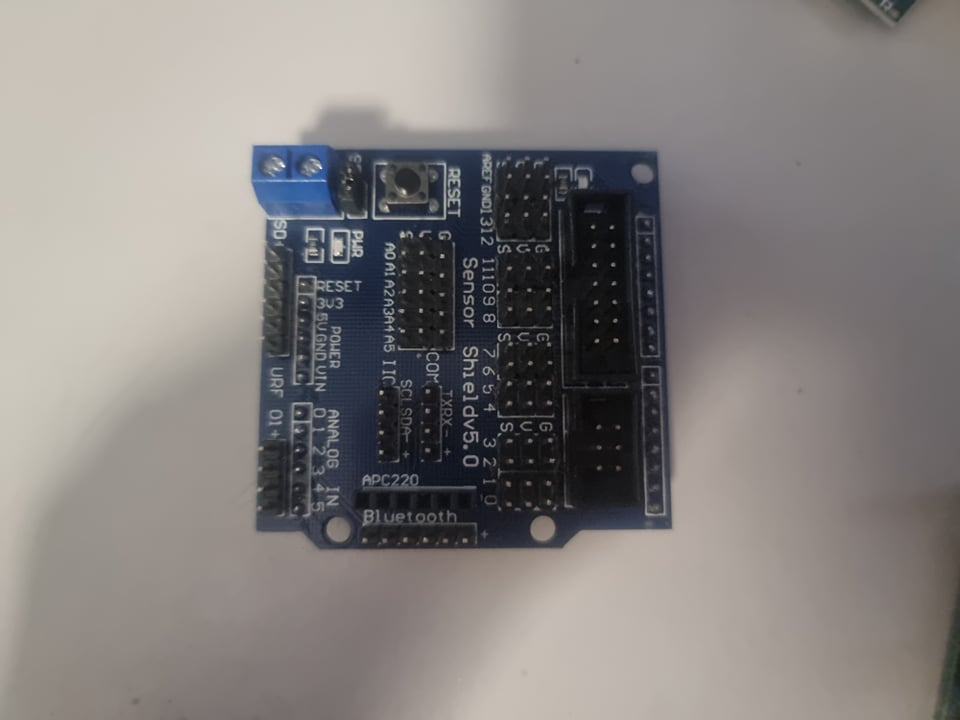5V EXPANSION: (249, 145, 680, 551)
